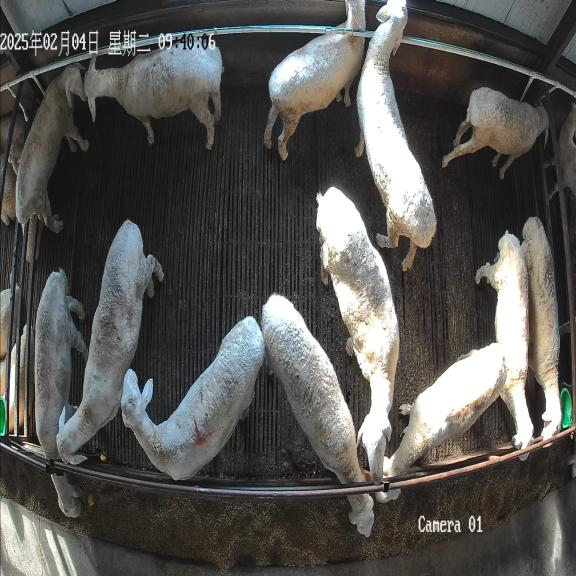drinking: (442, 87, 549, 179)
eating: (260, 294, 375, 537), (374, 342, 506, 502), (35, 270, 88, 517)
stand: (56, 220, 164, 463), (316, 187, 399, 480), (121, 317, 265, 480), (355, 0, 437, 271), (264, 0, 365, 160), (84, 35, 223, 149), (11, 63, 89, 262), (475, 233, 533, 449), (521, 217, 562, 439)
